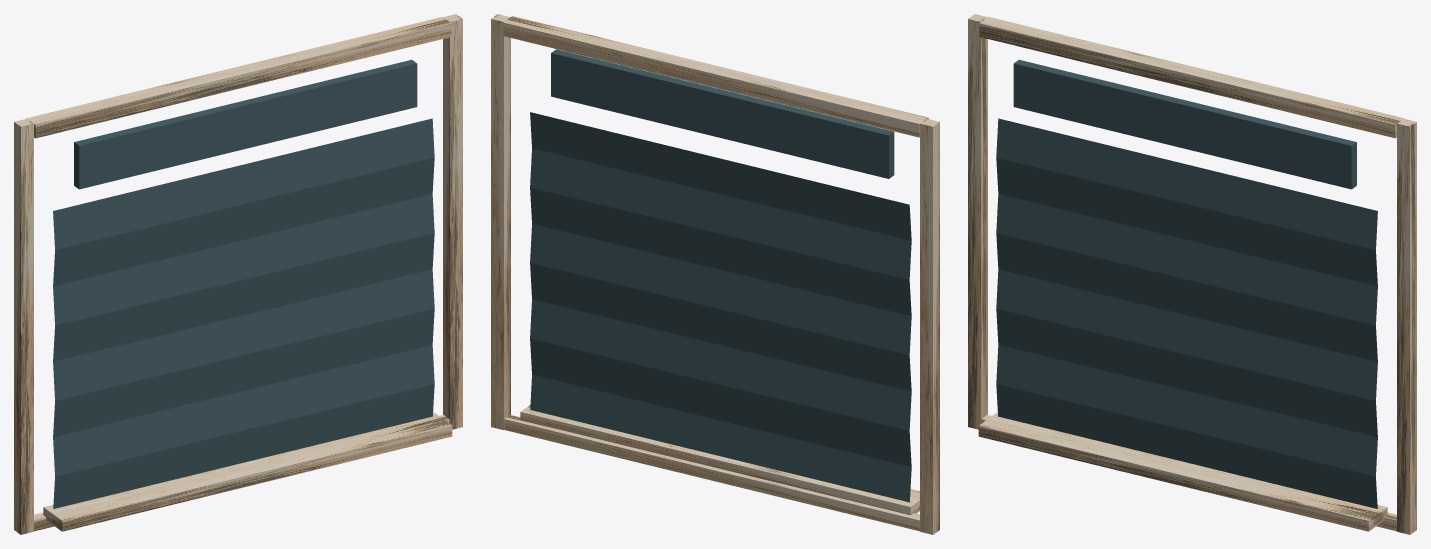
The model's file is facade_retail_shutter_ground.glb.
3 views of the same model, side by side, from view 1: azimuth 30°, elevation 25°; view 2: azimuth 150°, elevation 25°; view 3: azimuth 330°, elevation 25° (orthographic).
Parts seen in each view (by area): view 1: lod1_facade_retail_shutter_ground__VVK_painted_steel, lod1_facade_retail_shutter_ground__VVK_concrete_CC0; view 2: lod1_facade_retail_shutter_ground__VVK_painted_steel, lod1_facade_retail_shutter_ground__VVK_concrete_CC0; view 3: lod1_facade_retail_shutter_ground__VVK_painted_steel, lod1_facade_retail_shutter_ground__VVK_concrete_CC0.
Boxes of the visible parts, x1,y1,x2,y2 form: lod1_facade_retail_shutter_ground__VVK_painted_steel: (53, 59, 434, 508); lod1_facade_retail_shutter_ground__VVK_concrete_CC0: (14, 14, 462, 534); lod1_facade_retail_shutter_ground__VVK_painted_steel: (530, 49, 911, 502); lod1_facade_retail_shutter_ground__VVK_concrete_CC0: (491, 14, 939, 534); lod1_facade_retail_shutter_ground__VVK_painted_steel: (996, 59, 1377, 508); lod1_facade_retail_shutter_ground__VVK_concrete_CC0: (968, 14, 1416, 534).
Size of the model in its own units: 3.4 by 3 by 0.303.
2 materials, 1 textured.
